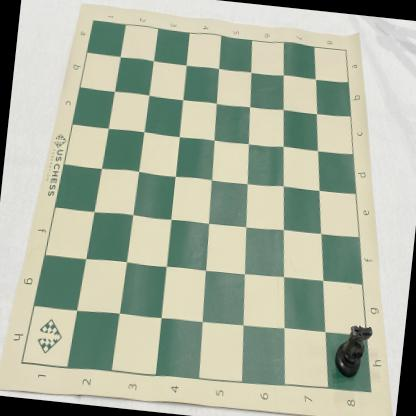knight: (333, 323, 373, 380)
